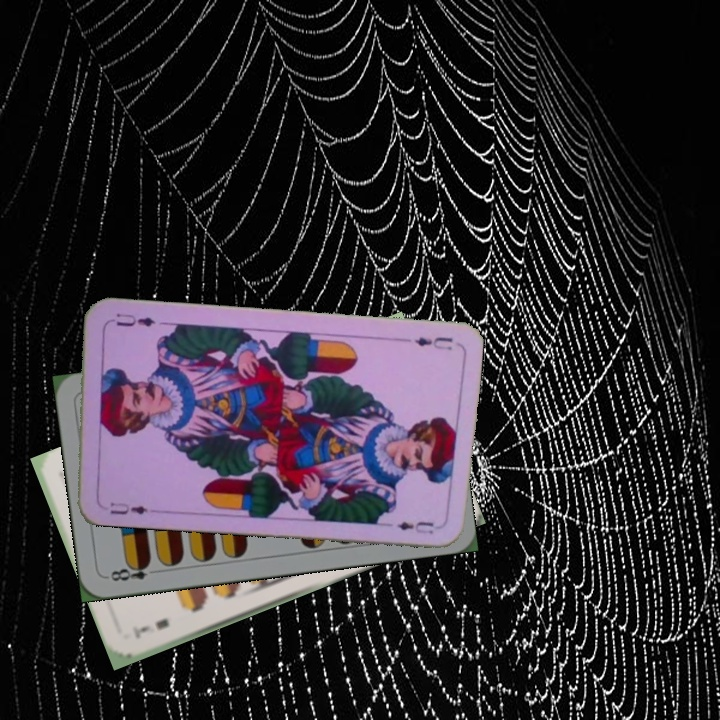E7: (129, 614, 172, 641)
E8: (103, 558, 162, 584)
EU: (410, 332, 455, 353), (106, 498, 150, 518)
